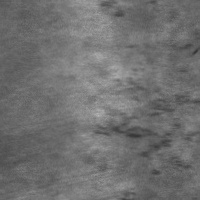rolled-in_scale: (93, 74, 200, 176), (100, 1, 132, 18)
